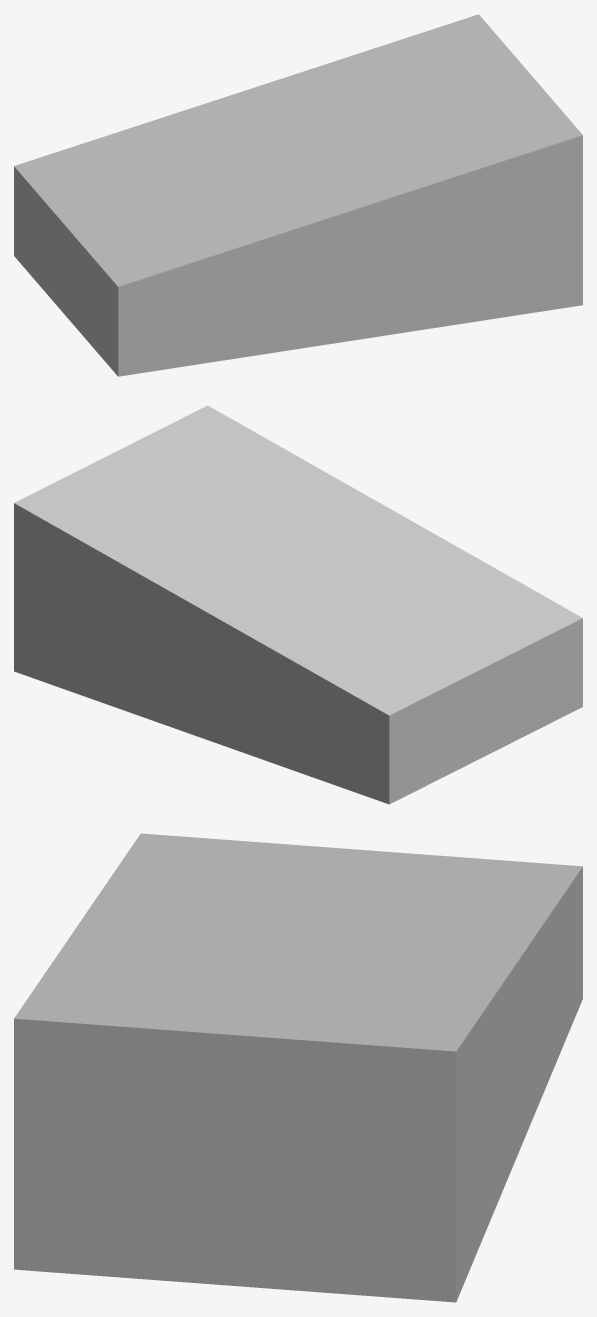
The model's file is SM_Mouse_01.fbx.
3 views of the same model, one above another, from view 1: azimuth 30°, elevation 25°; view 2: azimuth 150°, elevation 25°; view 3: azimuth 270°, elevation 25° (orthographic). The views are drawn at different scales.
Visible parts, largest first — view 1: SM_Mouse_01; view 2: SM_Mouse_01; view 3: SM_Mouse_01.
Boxes of the visible parts, x1,y1,x2,y2 form: SM_Mouse_01: (14,14,582,376); SM_Mouse_01: (14,405,582,804); SM_Mouse_01: (14,833,582,1302).
Size of the model in its own units: 11.19 by 3.89 by 8.
Materials: 1 (1 with a texture image).
